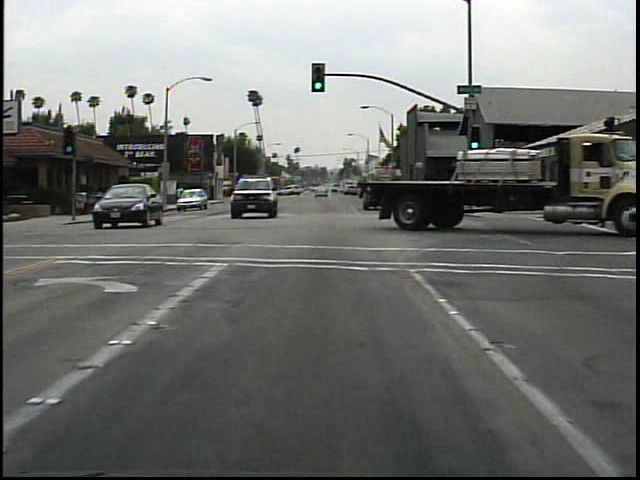person: (173, 182, 190, 206)
